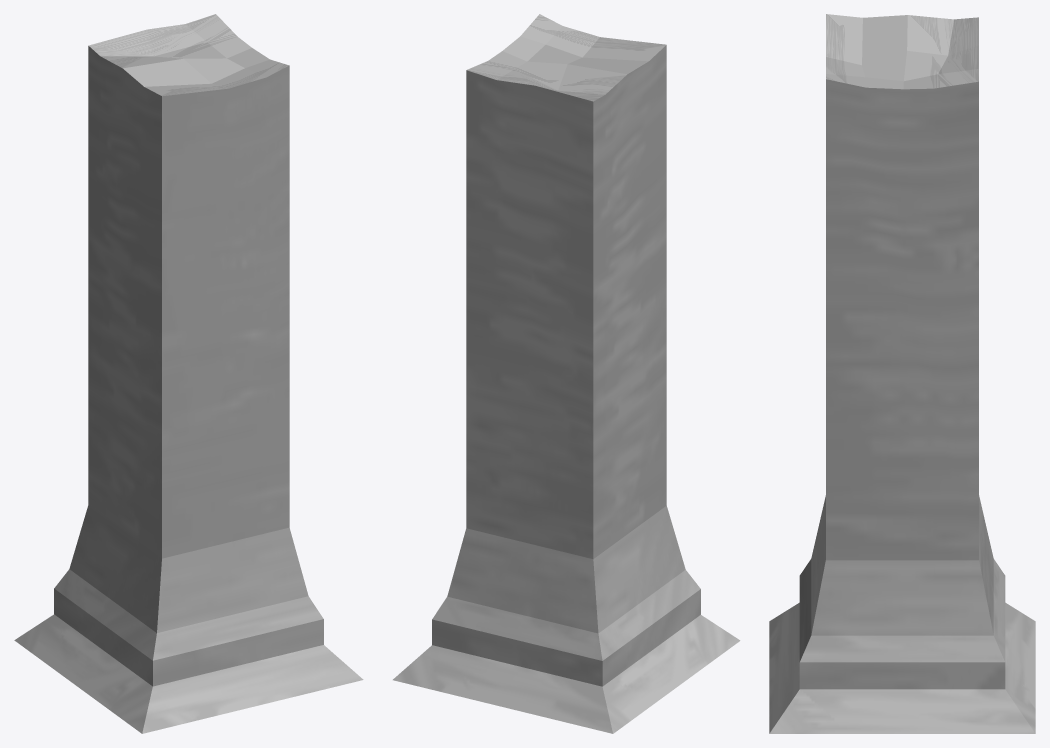
File: kırık_sutun.fbx
3 views of the same model, side by side, from view 1: azimuth 30°, elevation 25°; view 2: azimuth 150°, elevation 25°; view 3: azimuth 270°, elevation 25° (orthographic). The views are drawn at different scales.
Parts seen in each view (by area): view 1: saglam_sutun.001; view 2: saglam_sutun.001; view 3: saglam_sutun.001.
Part boxes in pixels (box(x1,y1,x2,y2)): saglam_sutun.001: box(14, 14, 363, 733); saglam_sutun.001: box(393, 14, 740, 733); saglam_sutun.001: box(769, 14, 1035, 733).
Size of the model in its own units: 3.21 by 8.38 by 3.21.
1 material, 1 textured.
